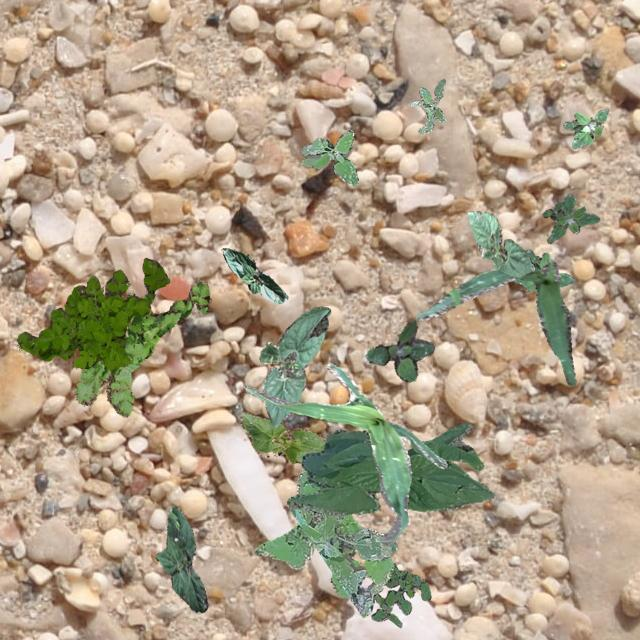crop: (244, 362, 446, 544), (416, 258, 574, 384), (286, 422, 492, 514), (258, 306, 329, 426), (154, 504, 206, 612), (466, 210, 534, 276), (238, 410, 324, 462), (222, 248, 286, 302)
weed: (74, 278, 208, 416), (253, 468, 392, 596), (15, 256, 168, 368), (289, 506, 397, 616), (364, 320, 434, 380), (370, 562, 430, 626), (300, 128, 358, 184), (542, 192, 598, 242), (512, 248, 574, 290), (408, 78, 444, 134), (563, 109, 607, 148)
